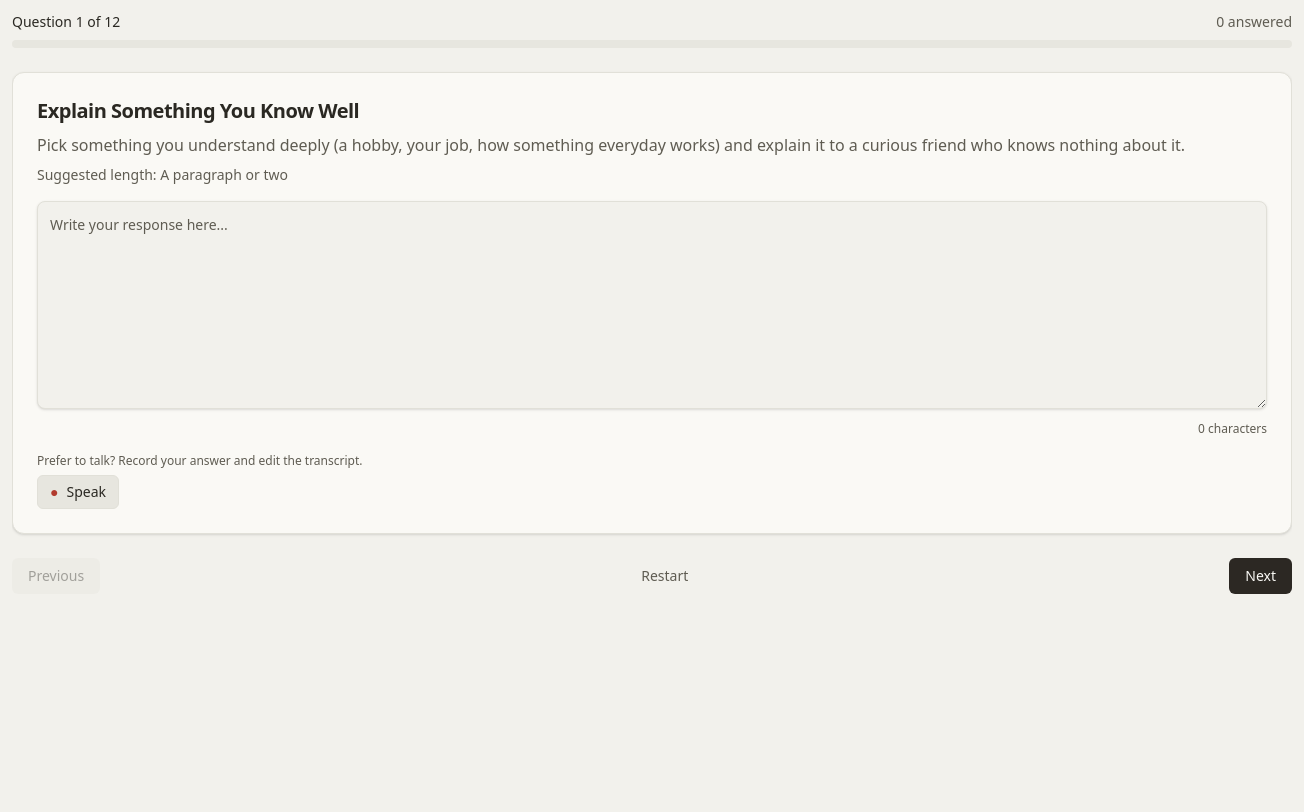
Test: AssessmentPage › advances to the next question when Next is clicked
Click the button "Next".
click(1261, 576)  # box [1229,558,1292,594]
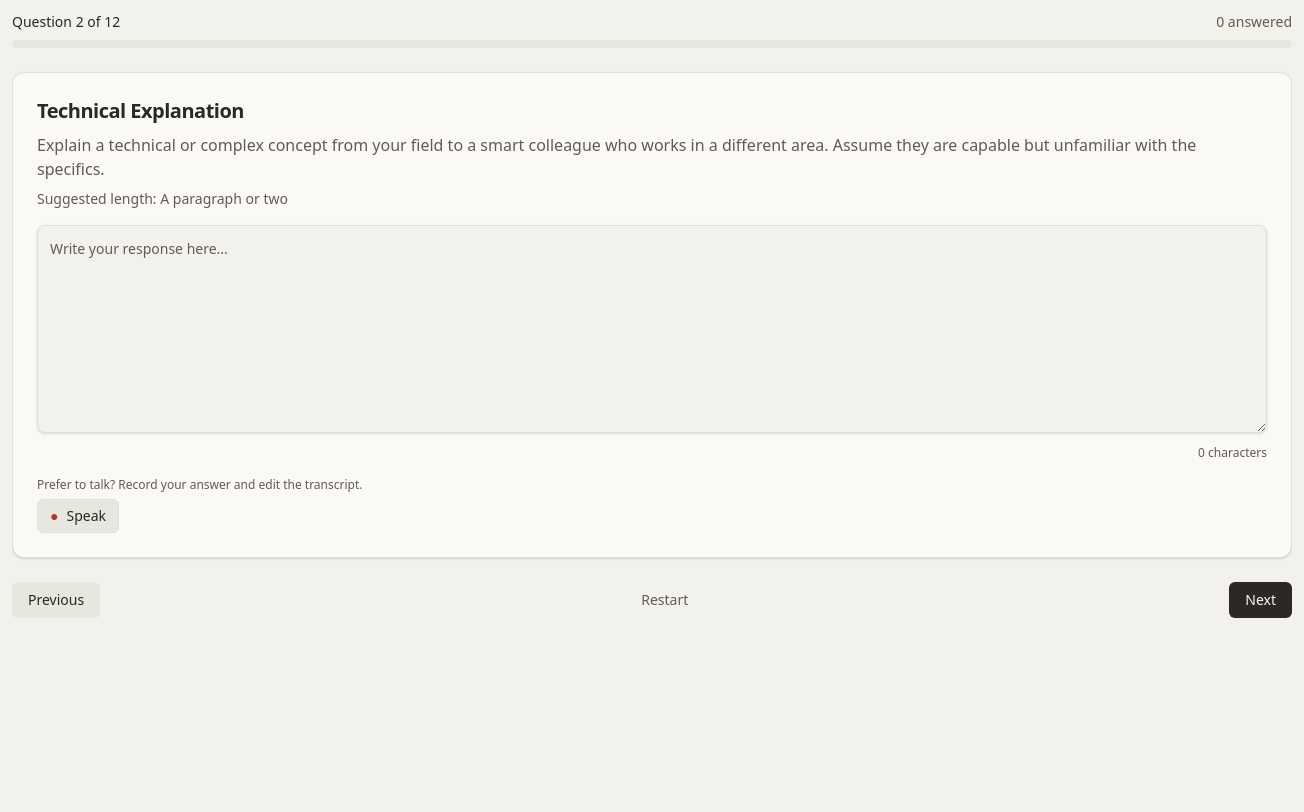
Check: the heading "Technical Explanation" is shown, box [37,97,244,124]
